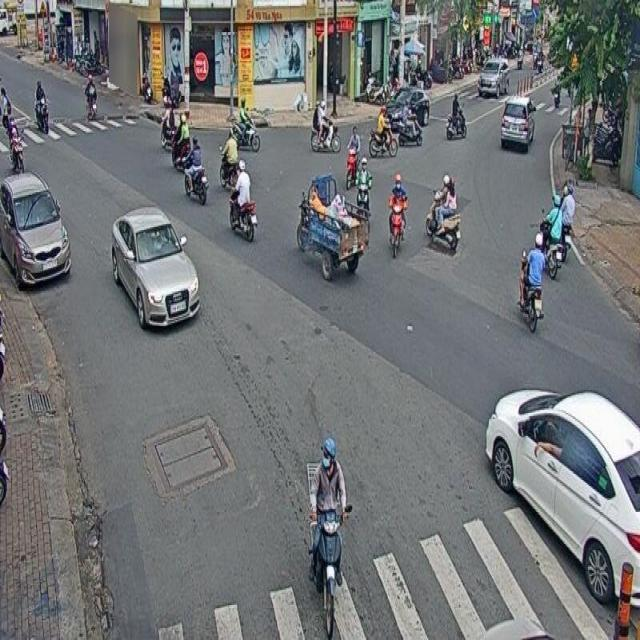car: (485, 389, 640, 600), (110, 207, 199, 334), (0, 170, 70, 290), (501, 96, 534, 148), (386, 87, 429, 126)
motorcycle: (310, 439, 352, 640), (425, 170, 460, 252), (518, 233, 544, 334), (229, 160, 257, 242), (540, 195, 562, 280), (229, 96, 260, 152), (310, 100, 342, 154), (184, 137, 209, 206), (387, 174, 407, 258), (368, 105, 398, 159), (219, 126, 239, 188), (354, 156, 372, 210), (346, 125, 360, 190)
